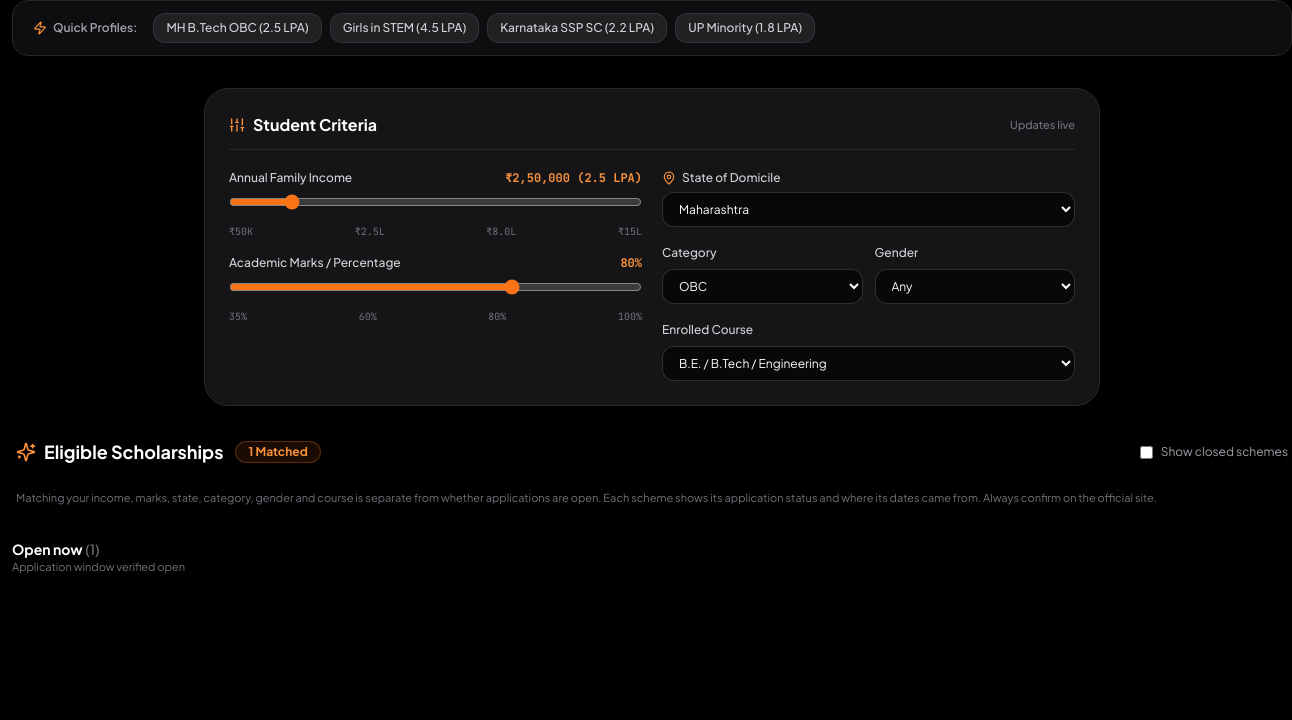
Test: Eligibility view › asks for closed schemes only when the student opts in, and shows them in their own section
Click the checkbox labelled "Show closed schemes" at (1146, 452), box [1140, 446, 1153, 458]
(page scrolled)
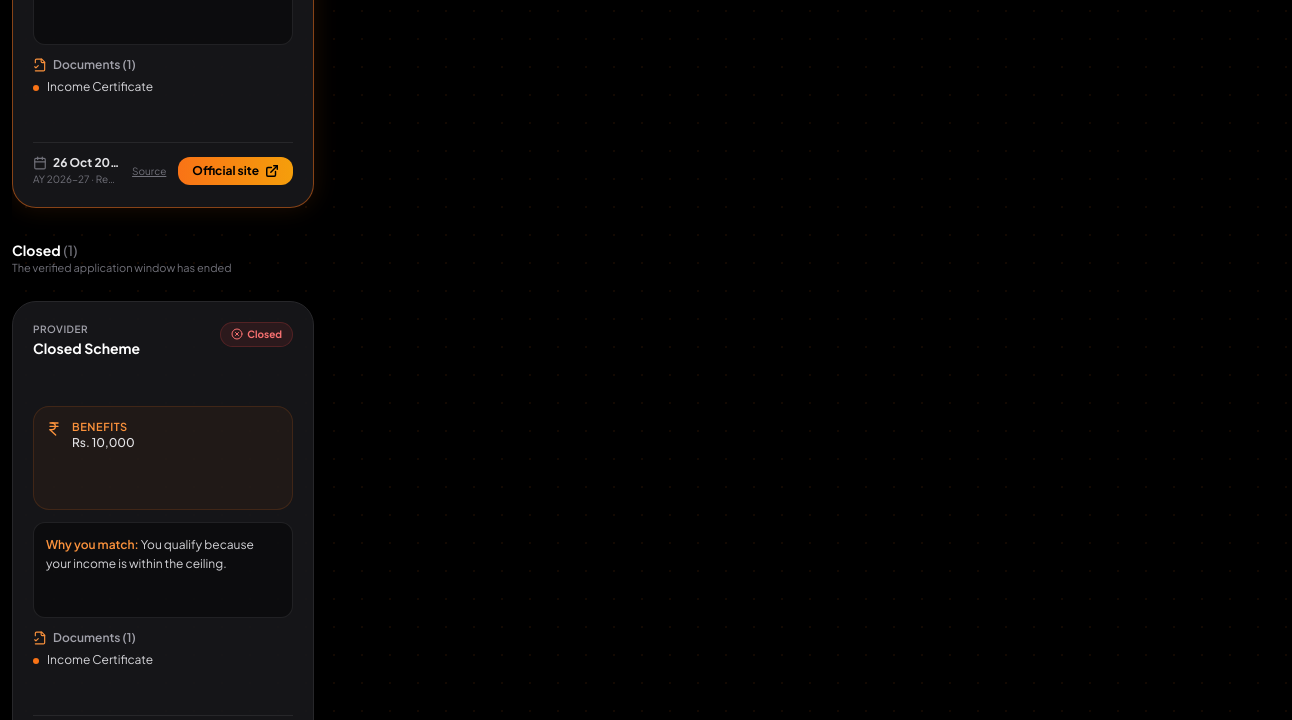
expect the heading "Closed Scheme" is shown: met, box [33, 338, 140, 356]
